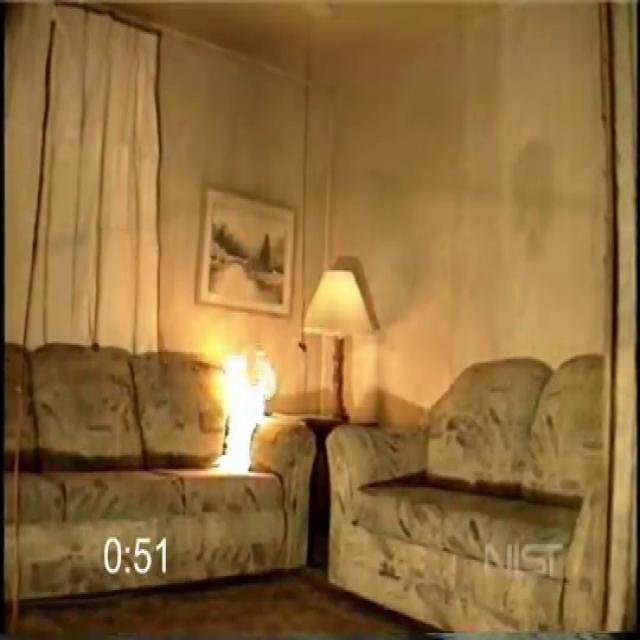Fire: (196, 318, 284, 476)
